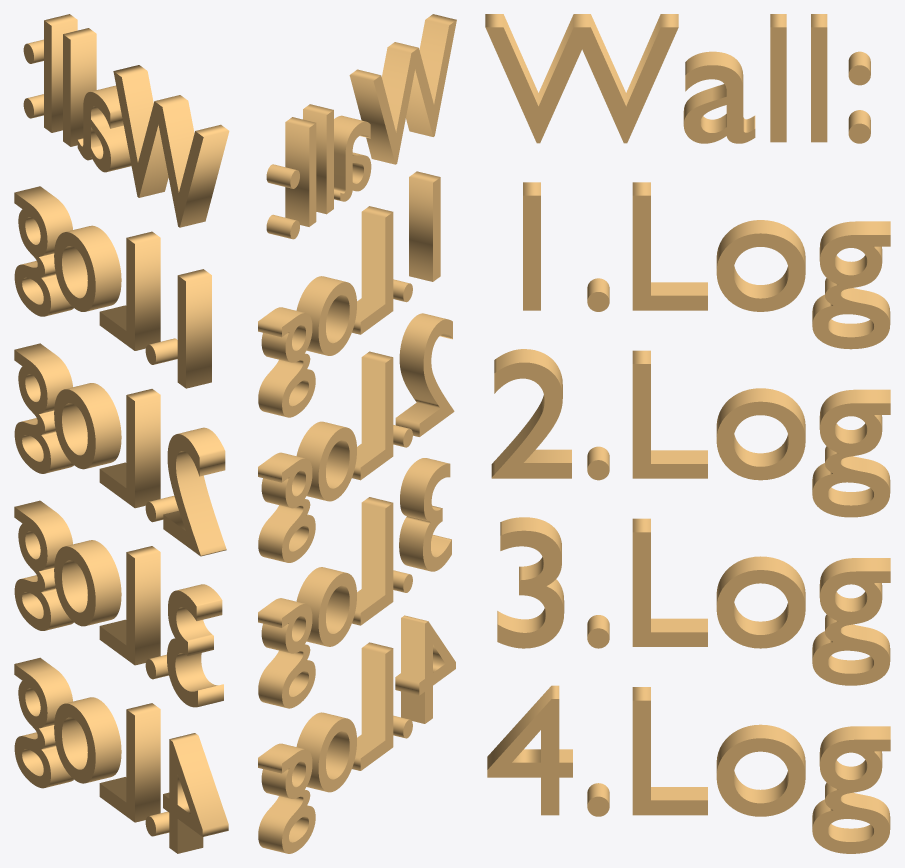
The model's file is nine.fbx.
The picture shows the model from 3 angles, left to right: view 1: azimuth 30°, elevation 25°; view 2: azimuth 150°, elevation 25°; view 3: azimuth 270°, elevation 25°; orthographic projection. The views are drawn at different scales.
Visible parts, largest first — view 1: Text; view 2: Text; view 3: Text.
Part boxes in pixels (box(x1,y1,x2,y2)): Text: box(14, 14, 229, 853); Text: box(258, 14, 456, 853); Text: box(485, 14, 890, 853).
Bounding box in the file's own units: 17.2 × 491 × 218.
